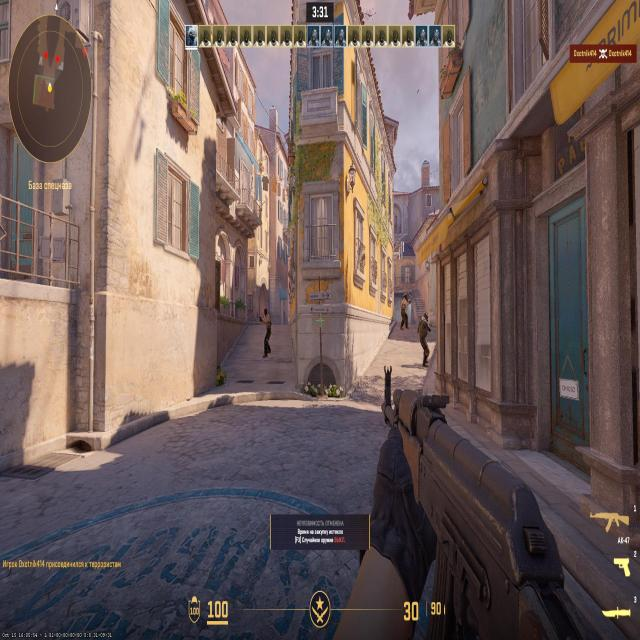CT: (420, 310, 428, 360)
CT_heat: (423, 313, 428, 322)
T: (262, 309, 271, 355), (402, 294, 407, 329)
T_heat: (265, 307, 268, 319), (404, 297, 407, 302)
